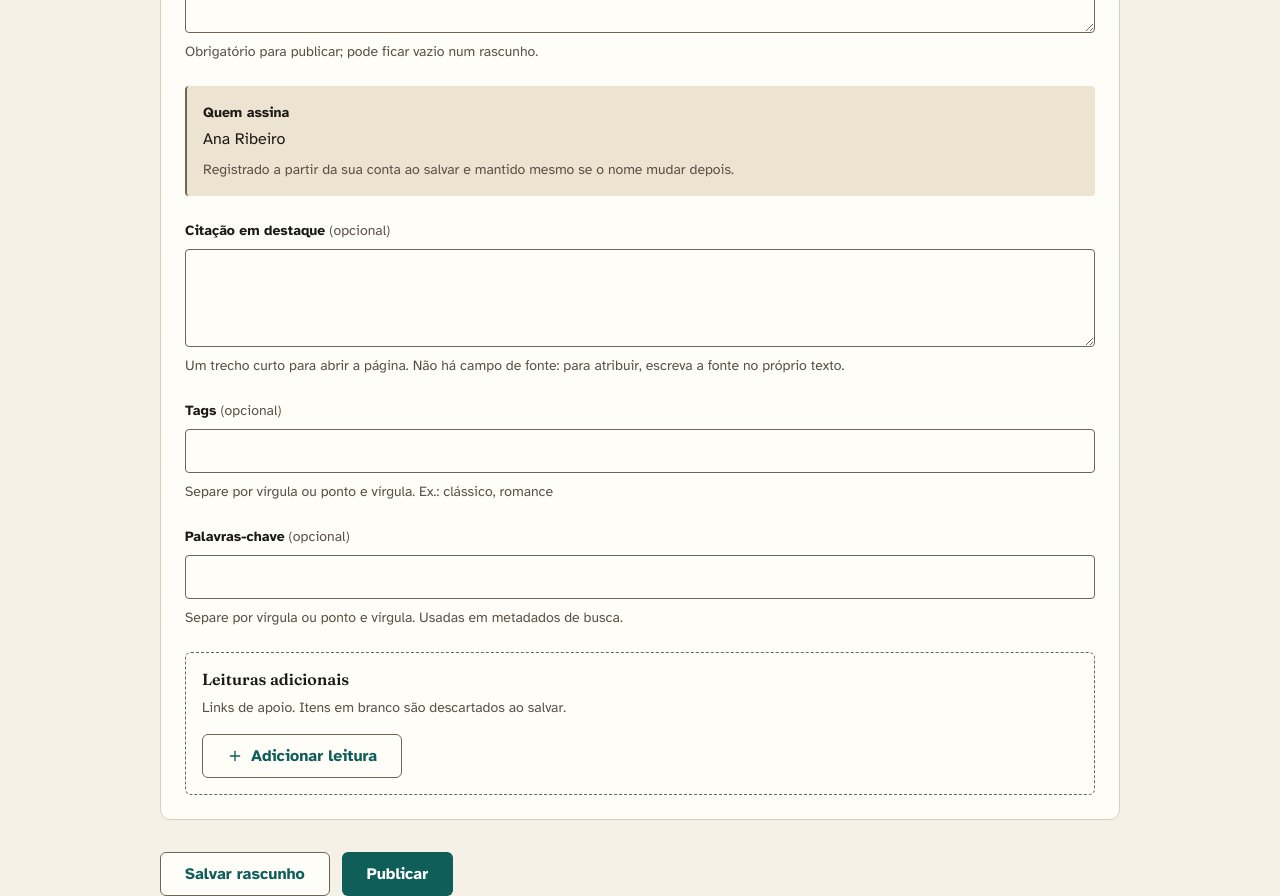
it: leituras adicionais: adicionar, remover e o foco em cada transição › cada item tem rótulos próprios e numerados — nomes acessíveis únicos
(page scrolled)
Click the button "Adicionar leitura": {"x": 302, "y": 756} 202,734 -> 402,778
(page scrolled)
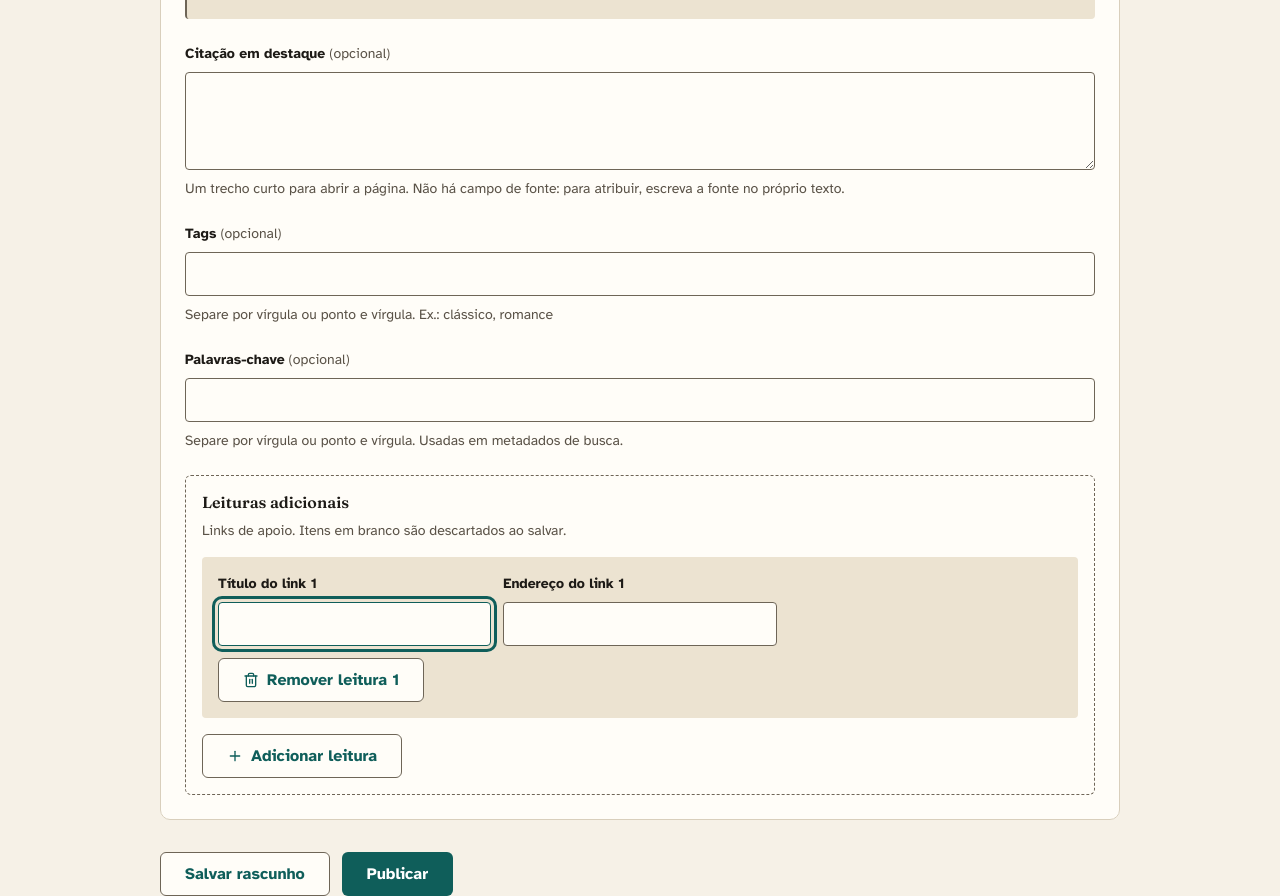
Click the button "Adicionar leitura": {"x": 302, "y": 756} 202,734 -> 402,778
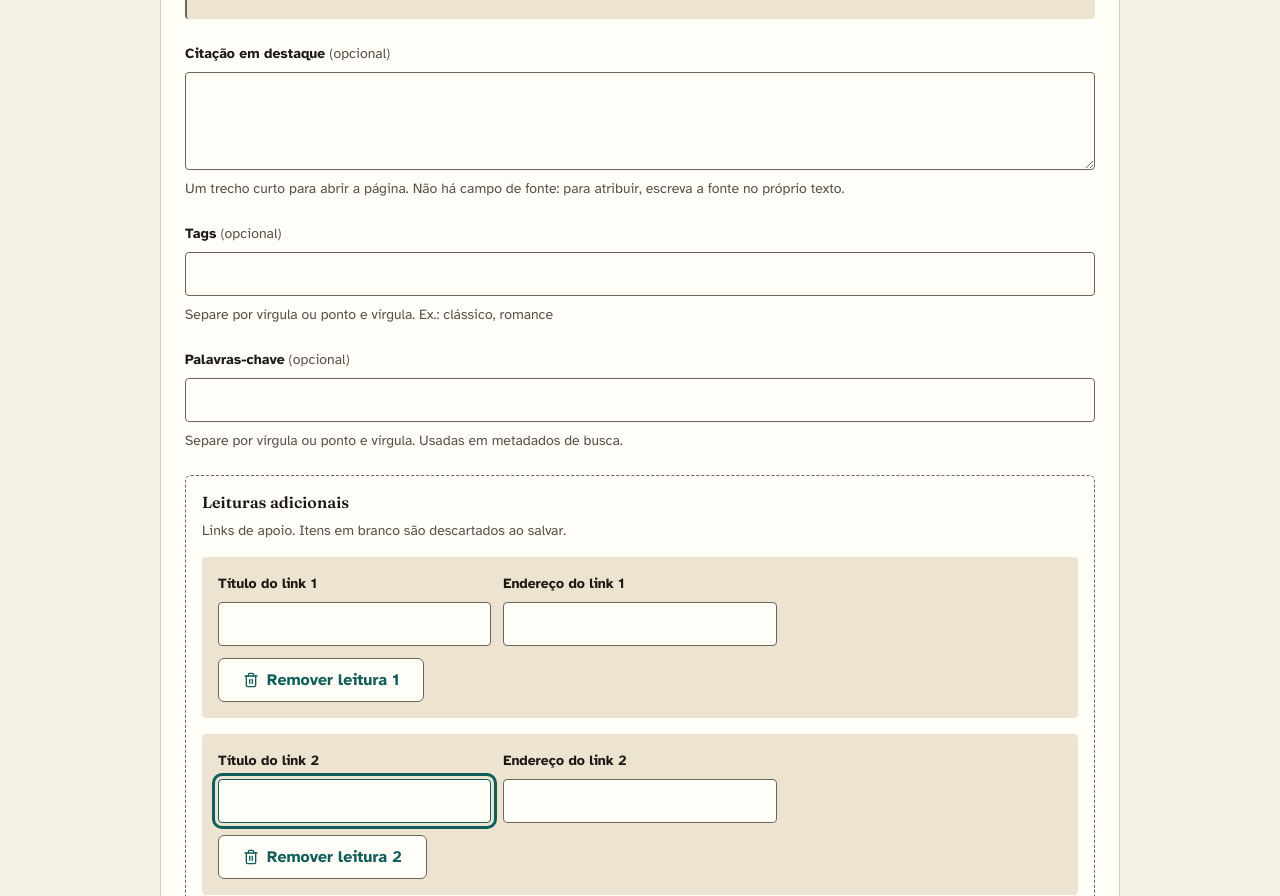
Check: the field labelled "Título do link 1" is shown, box 218,602 -> 491,646
Check: the button "Remover leitura 1" is shown, box 218,658 -> 424,702
Check: the field labelled "Título do link 2" is shown, box 218,779 -> 491,823
